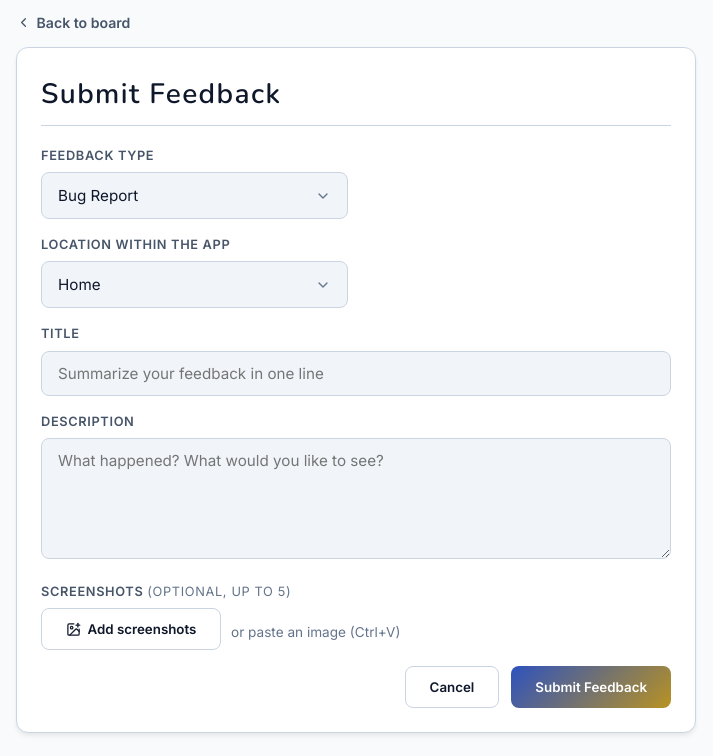
Test case: FeedbackSubmitForm › reveals an "Other" detail field only when Other is selected
The image size is (713, 756).
Expected: the field labelled "Other type" is not shown
Expected: the field labelled "Other location" is not shown
What coordinates should you click on to do the following:
click the dropdown named "Feedback Type"
I would click on:
 (98, 195)
Its box is [41, 172, 348, 219].
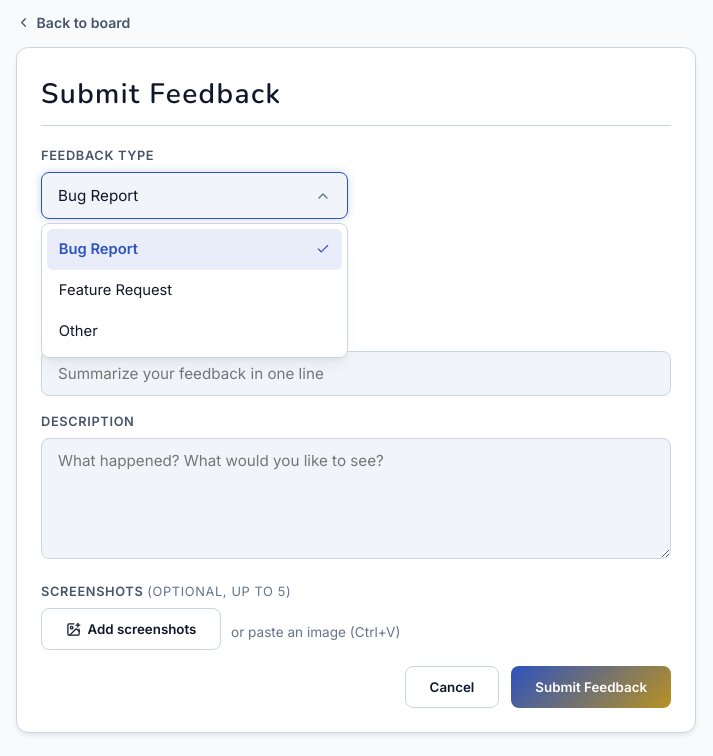
What coordinates should you click on to do the following:
click the option "Other"
I would click on:
 (78, 331)
Its box is [59, 322, 98, 340].
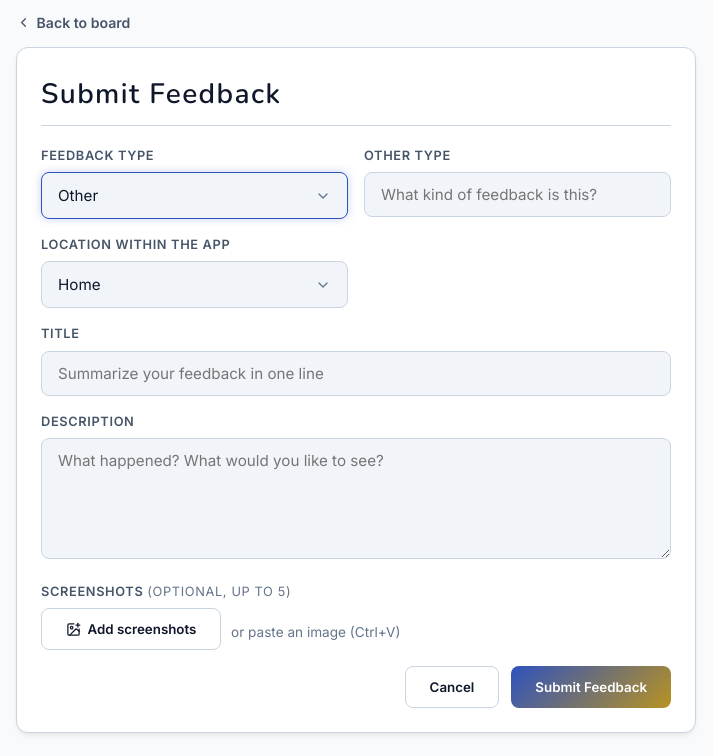
Expected: the field labelled "Other type" is shown, [364, 172, 671, 217]
What coordinates should you click on to do the following:
click the dropdown named "Location Within The App"
I would click on:
 (79, 285)
Its box is [41, 261, 348, 308].
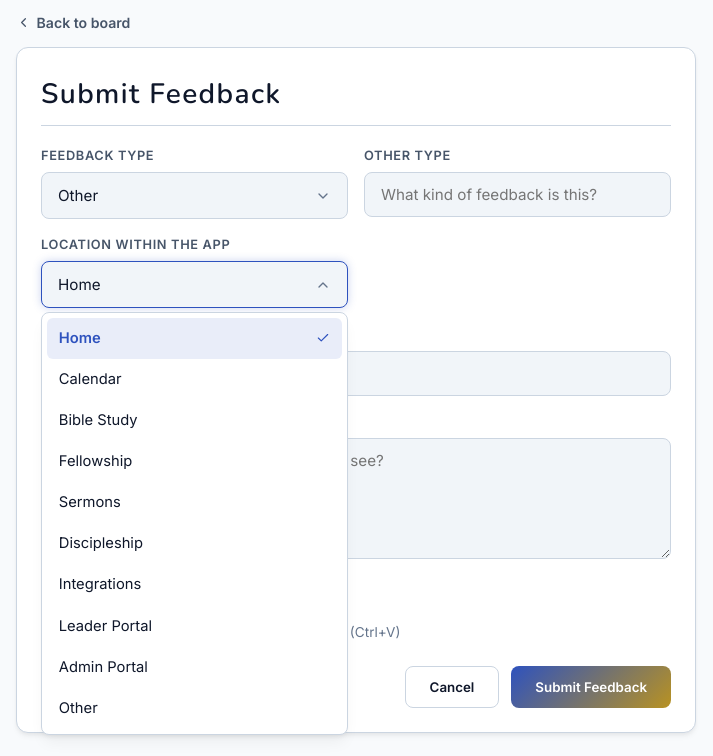
What coordinates should you click on to do the following:
click the option "Other"
I would click on:
 (78, 708)
Its box is [59, 699, 98, 717].
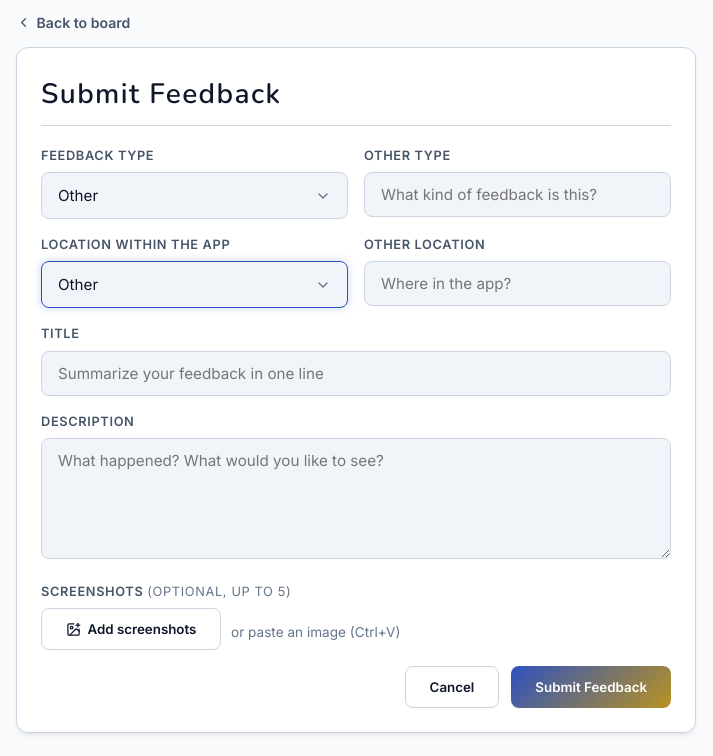
Expected: the field labelled "Other location" is shown, [364, 261, 671, 306]
What coordinates should you click on to do the following:
click the dropdown named "Feedback Type"
I would click on:
 (78, 195)
Its box is [41, 172, 348, 219].
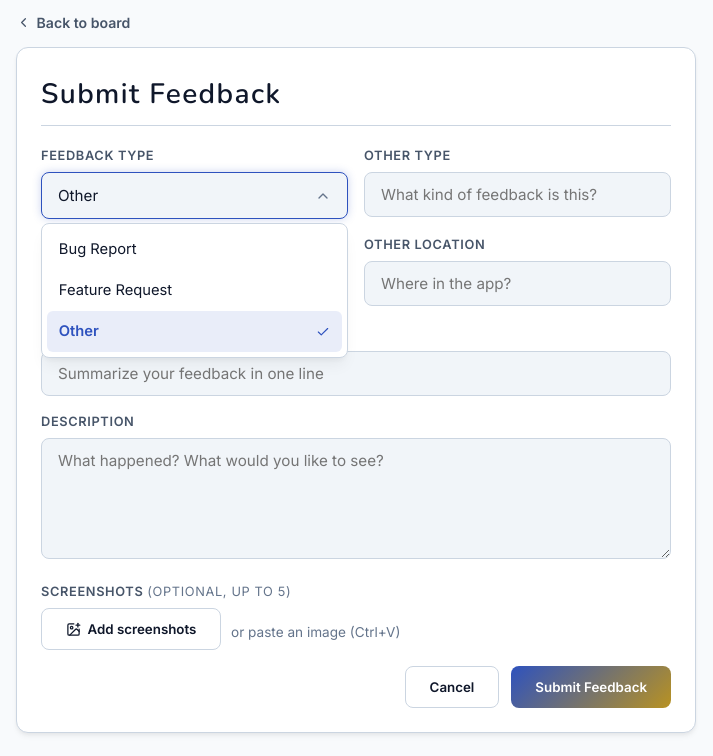
What coordinates should you click on to do the following:
click the option "Bug Report"
I would click on:
 (98, 249)
Its box is [59, 240, 137, 258].
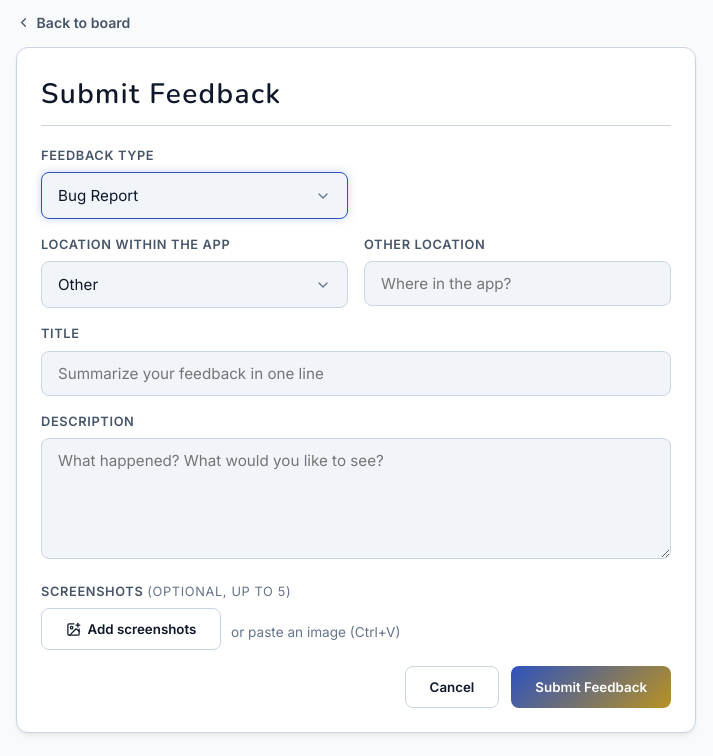
Expected: the label labelled "Other type" is gone
